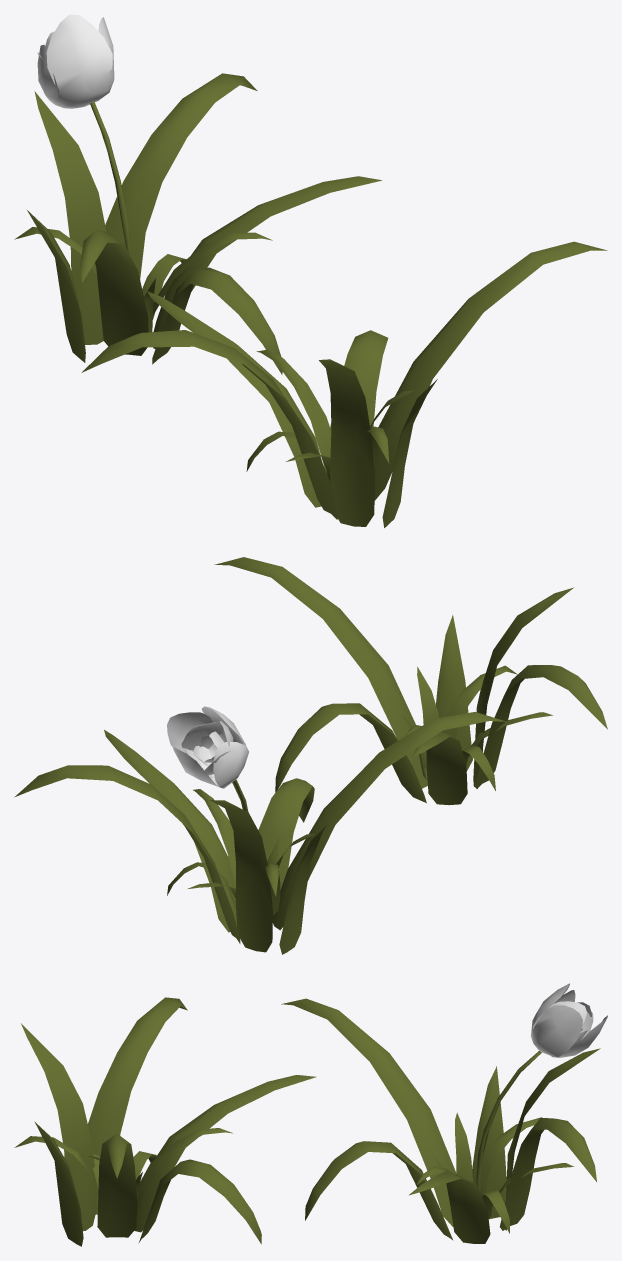
3 views of the same model, one above another, from view 1: azimuth 30°, elevation 25°; view 2: azimuth 150°, elevation 25°; view 3: azimuth 270°, elevation 25° (orthographic). The views are drawn at different scales.
Parts seen in each view (by area): view 1: GrasswFlower, Grass, Flower; view 2: GrasswFlower, Grass, Flower; view 3: Grass, GrasswFlower, Flower.
Part boxes in pixels (bbox=[...]): GrasswFlower: bbox=[14, 73, 382, 374]; Grass: bbox=[81, 241, 607, 527]; Flower: bbox=[37, 14, 131, 257]; GrasswFlower: bbox=[14, 712, 506, 954]; Grass: bbox=[214, 557, 607, 805]; Flower: bbox=[167, 706, 248, 812]; Grass: bbox=[14, 997, 316, 1246]; GrasswFlower: bbox=[281, 998, 600, 1243]; Flower: bbox=[476, 983, 607, 1194].
Bounding box in the file's own units: 0.3685 × 0.2183 × 0.4673.
